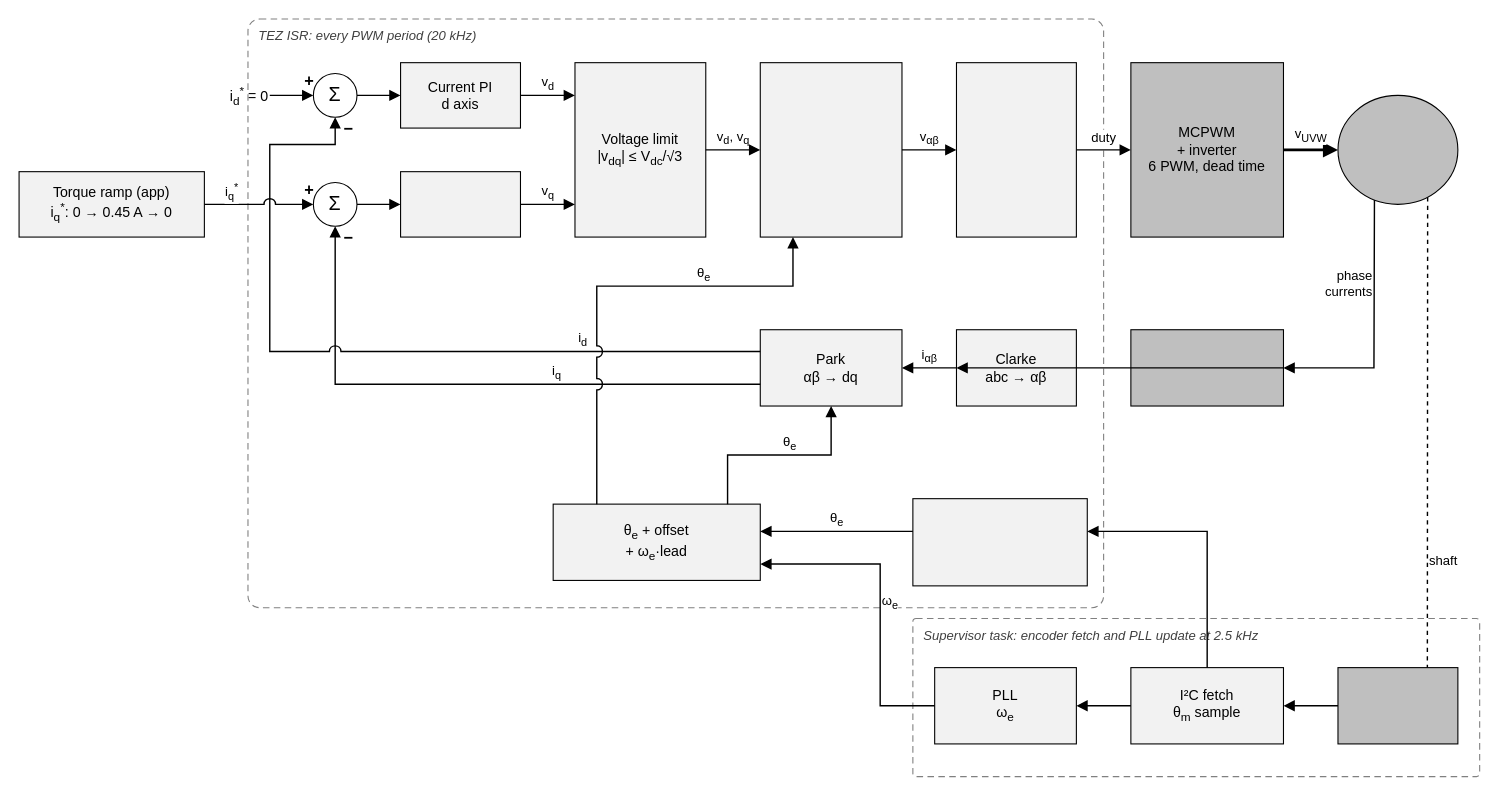
Some shapes in this 1499 by 796 pixel diagram are drawn without their labels. Here are the shapes that lost their labels. From the top down, the box of each, then its label:
(759, 62, 902, 237): Inverse Park dq → αβ
(955, 62, 1076, 237): SVM (center-aligned)
(1337, 94, 1458, 204): PMSM
(399, 171, 520, 237): Current PI q axis
(1130, 329, 1283, 406): ADC + DMA i U , i V sampled at TEZ (ETM)
(912, 498, 1087, 586): Sensor step extrapolates θ m θ e = pp·θ m
(1337, 667, 1458, 744): AS5600 encoder
